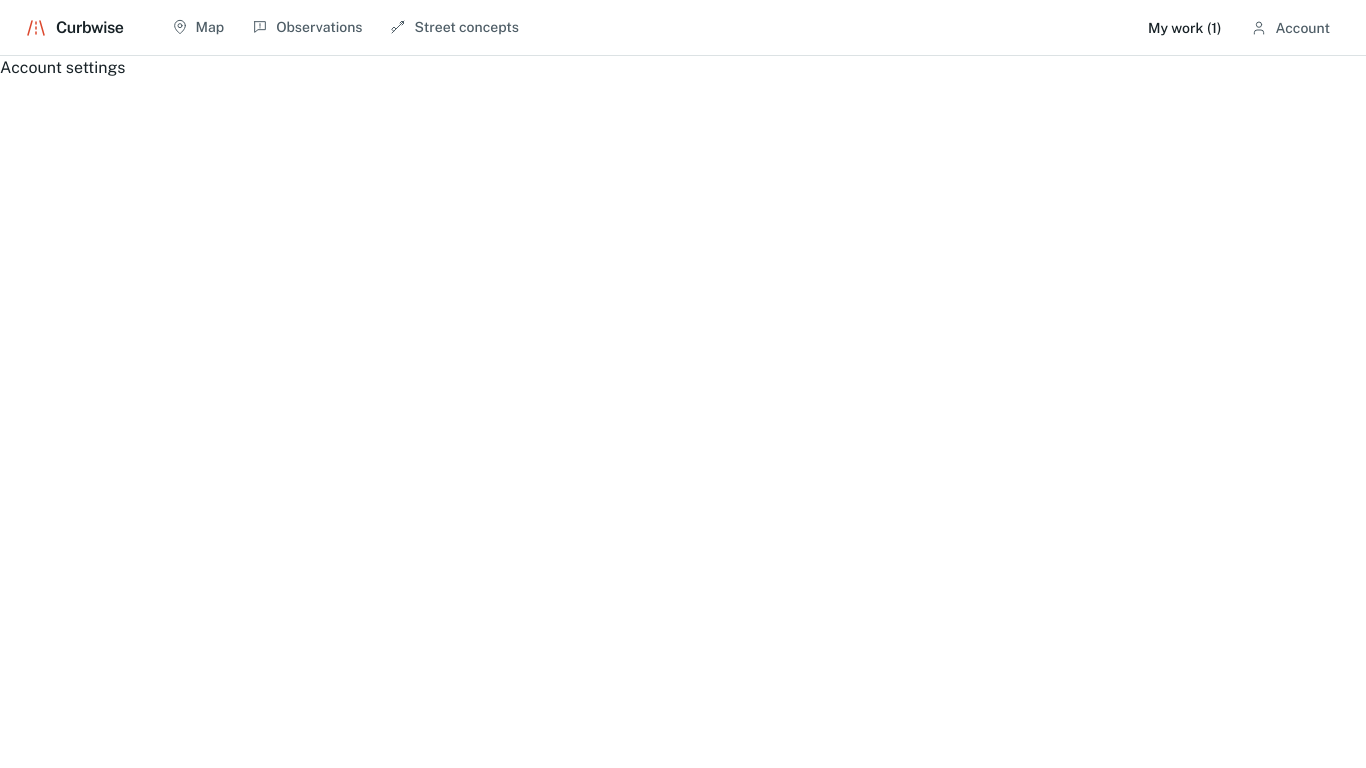
Test case: reopens work from Account and warns on reload only while a write remains unsaved
Click the button "My work (1)": click(1185, 28) x1=1136 y1=6 x2=1233 y2=50
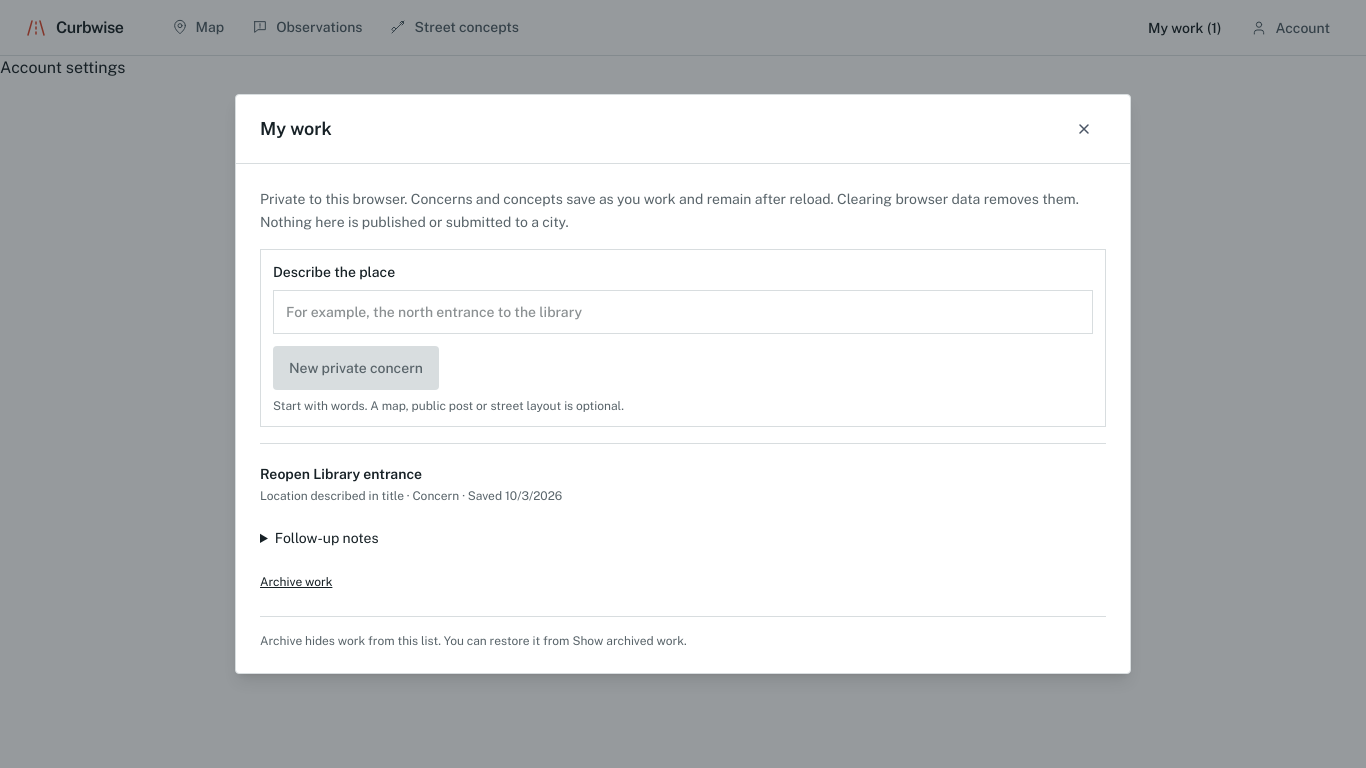
Click the button "Reopen Library entrance": click(287, 474) x1=260 y1=456 x2=1106 y2=512
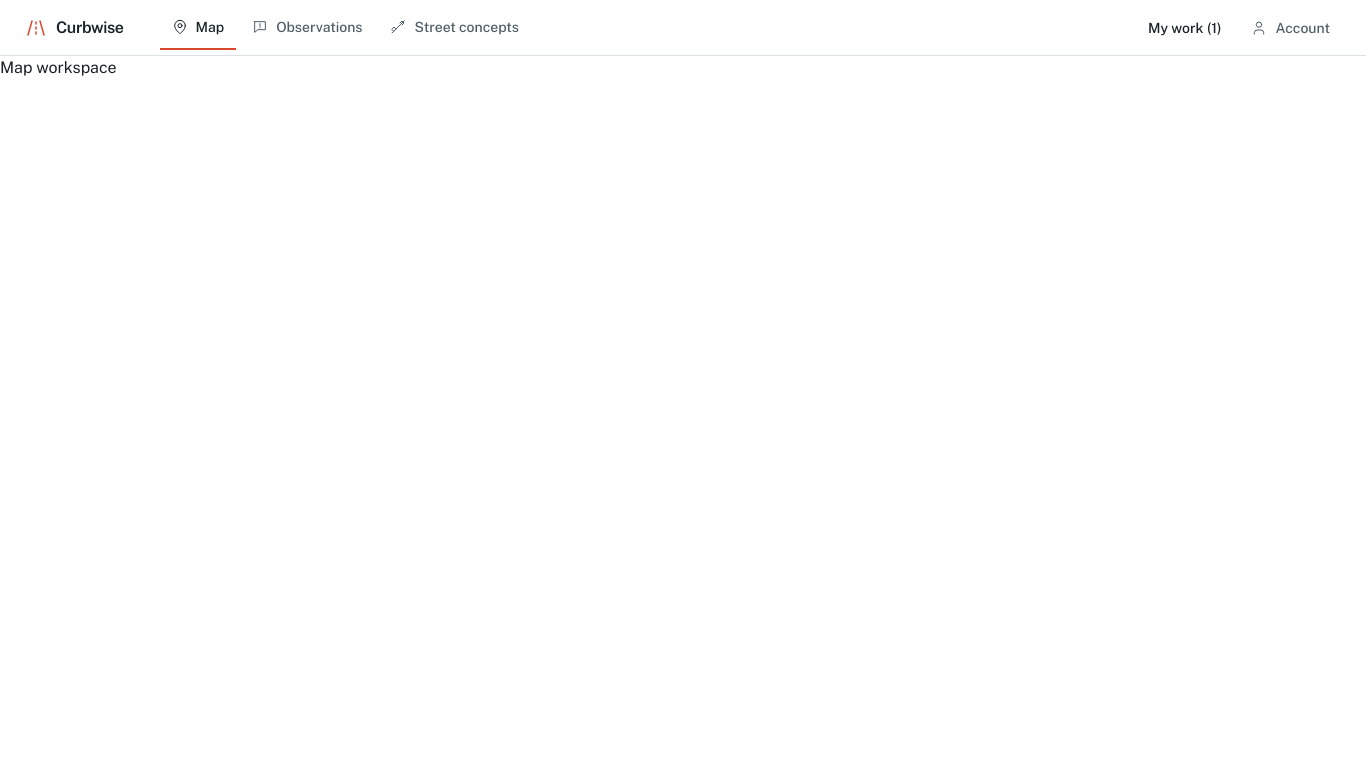
Check: the heading "Map workspace" is shown, box x1=0 y1=58 x2=117 y2=77
